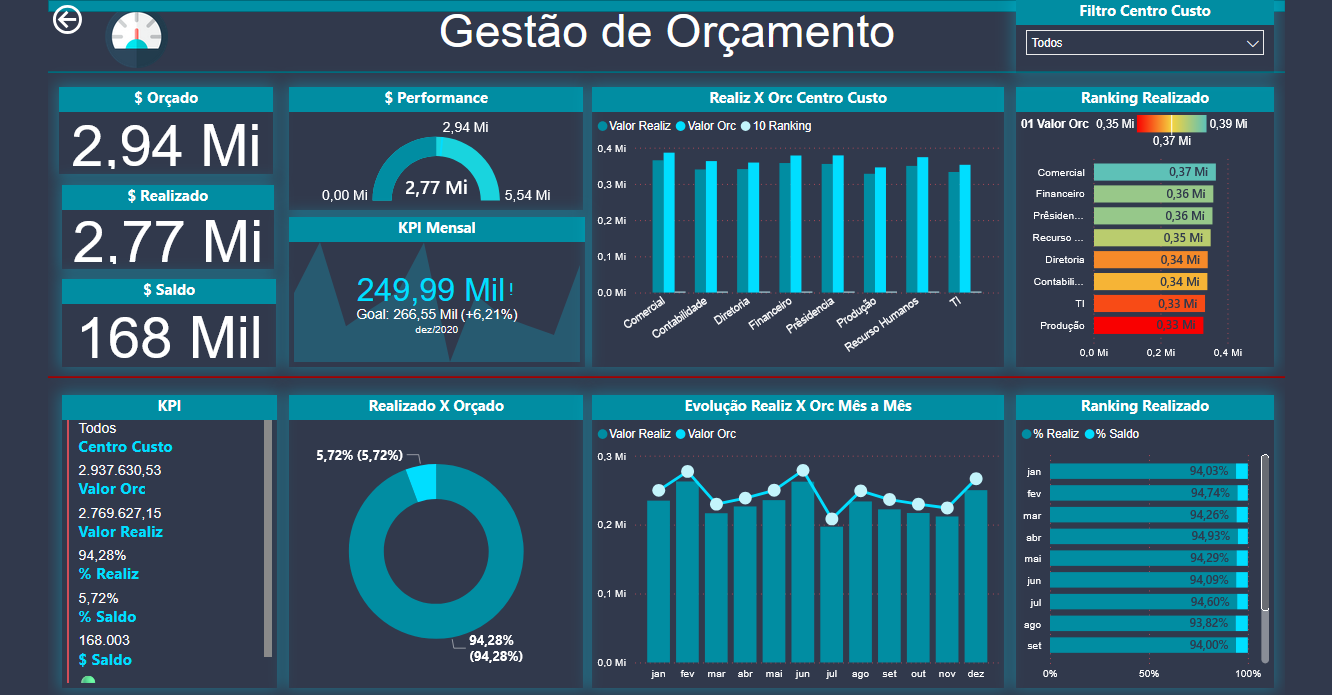

The page's visual inventory and layout, read from the dashboard file:
{"tool":"powerbi","page":{"name":"Painel","canvas":[1280,720],"ordinal":1},"visuals":[{"type":"image","box":[0,0,182.6,75.4],"z":0},{"type":"shape","box":[0,0,1279.7,149.3],"z":1000},{"type":"textbox","box":[0,0,1280.4,89.3],"z":2000},{"type":"shape","box":[0,0,1280.4,12.5],"z":3000},{"type":"card","title":"$ Orçado","fields":{"Values":["_Medidas.01 Valor Orc"]},"box":[11.6,89.9,221.7,89.9],"z":4000},{"type":"card","title":"$ Realizado","fields":{"Values":["_Medidas.02 Valor Realiz"]},"box":[14.5,191.3,218.8,87],"z":5000},{"type":"card","title":"$ Saldo","fields":{"Values":["_Medidas.05 $ Saldo"]},"box":[14.5,288.4,221.7,91.3],"z":6000},{"type":"gauge","title":"$ Performance","fields":{"Y":["_Medidas.02 Valor Realiz"],"TargetValue":["_Medidas.01 Valor Orc"]},"box":[249.3,89.9,304.3,127.5],"z":7000},{"type":"kpi","title":"KPI Mensal","fields":{"Indicator":["_Medidas.02 Valor Realiz"],"Goal":["_Medidas.01 Valor Orc"],"TrendLine":["D_CALENDARIO.Mes/Ano"]},"box":[249.3,224.6,305.8,155.1],"z":8000},{"type":"clusteredColumnChart","title":"Realiz X Orc Centro Custo","fields":{"Y":["_Medidas.02 Valor Realiz","_Medidas.01 Valor Orc","_Medidas.10 Ranking"],"Category":["D_Centro_Custo.Centro de Custos","D_CALENDARIO.Mes/Ano"]},"box":[562.3,89.9,426.1,289.9],"z":9000},{"type":"actionButton","box":[0,0,100,40],"z":10000},{"type":"barChart","title":"Ranking Realizado","fields":{"Category":["D_Centro_Custo.Centro de Custos"],"Y":["_Medidas.02 Valor Realiz"]},"box":[1001.4,89.9,266.7,289.9],"z":11000},{"type":"multiRowCard","title":"KPI","fields":{"Values":["_Medidas.09 Centro Custo","_Medidas.01 Valor Orc","_Medidas.02 Valor Realiz","_Medidas.03 % Realiz","_Medidas.04 % Saldo","_Medidas.05 $ Saldo","_Medidas.07 KPI"]},"box":[14,409,222,303],"z":12000},{"type":"donutChart","title":"Realizado X Orçado","fields":{"Y":["_Medidas.03 % Realiz","_Medidas.04 % Saldo"]},"box":[249.3,408.7,304.3,302.9],"z":13000},{"type":"lineClusteredColumnComboChart","title":"Evolução Realiz X Orc Mês a Mês","fields":{"Y":["_Medidas.02 Valor Realiz"],"Y2":["_Medidas.01 Valor Orc"],"Category":["D_CALENDARIO.Mes abrev"]},"box":[562.3,408.7,426.1,302.9],"z":14000},{"type":"barChart","title":"Ranking Realizado","fields":{"Category":["D_CALENDARIO.Mes abrev"],"Y":["_Medidas.03 % Realiz","_Medidas.04 % Saldo"]},"box":[1001.4,408.7,266.7,302.9],"z":15000},{"type":"shape","box":[0,315.9,1279.7,149.3],"z":16000},{"type":"slicer","title":"Filtro Centro Custo","fields":{"Values":["D_Centro_Custo.Centro de Custos"]},"box":[1001.4,0,266.7,75.4],"z":17000}]}

Visuals, with their boxes on the page's 1280x720 design canvas (x1, y1, x2, y2). These are canvas units, not pixel positions in the 1332x695 screenshot, which may show the page scaled, cropped or inside an application window:
image: bbox(0, 0, 183, 75)
shape: bbox(0, 0, 1280, 149)
textbox: bbox(0, 0, 1280, 89)
shape: bbox(0, 0, 1280, 12)
"$ Orçado" card: bbox(12, 90, 233, 180)
"$ Realizado" card: bbox(14, 191, 233, 278)
"$ Saldo" card: bbox(14, 288, 236, 380)
"$ Performance" gauge: bbox(249, 90, 554, 217)
"KPI Mensal" kpi: bbox(249, 225, 555, 380)
"Realiz X Orc Centro Custo" clusteredColumnChart: bbox(562, 90, 988, 380)
actionButton: bbox(0, 0, 100, 40)
"Ranking Realizado" barChart: bbox(1001, 90, 1268, 380)
"KPI" multiRowCard: bbox(14, 409, 236, 712)
"Realizado X Orçado" donutChart: bbox(249, 409, 554, 712)
"Evolução Realiz X Orc Mês a Mês" lineClusteredColumnComboChart: bbox(562, 409, 988, 712)
"Ranking Realizado" barChart: bbox(1001, 409, 1268, 712)
shape: bbox(0, 316, 1280, 465)
"Filtro Centro Custo" slicer: bbox(1001, 0, 1268, 75)
